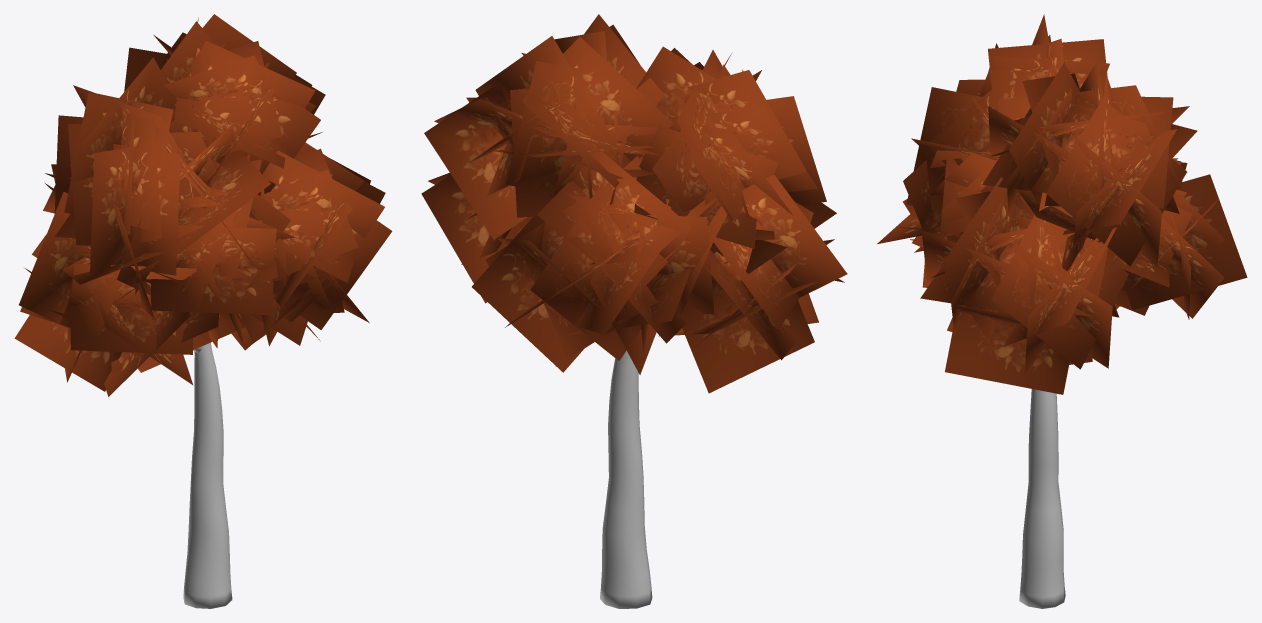
Rendered from Tree_S_03.fbx.
3 views of the same model, side by side, from view 1: azimuth 30°, elevation 25°; view 2: azimuth 150°, elevation 25°; view 3: azimuth 270°, elevation 25° (orthographic). The views are drawn at different scales.
Visible parts, largest first — view 1: Tree_S3_Leaves2, Tree_S3_Leaves1, Tree_S3_Leaves6, Tree_S3_Leaves4, Tree_S3_Leaves3, Tree_S_03; view 2: Tree_S3_Leaves5, Tree_S3_Leaves6, Tree_S3_Leaves2, Tree_S3_Leaves4, Tree_S_03, Tree_S3_Leaves1; view 3: Tree_S3_Leaves1, Tree_S3_Leaves6, Tree_S3_Leaves2, Tree_S3_Leaves5, Tree_S_03, Tree_S3_Leaves3.
Boxes of the visible parts, <box> form: Tree_S3_Leaves2: <box>54,57,270,396</box>; Tree_S3_Leaves1: <box>231,142,392,350</box>; Tree_S3_Leaves6: <box>124,14,325,195</box>; Tree_S3_Leaves4: <box>14,192,196,391</box>; Tree_S3_Leaves3: <box>116,159,295,348</box>; Tree_S_03: <box>183,342,232,608</box>; Tree_S3_Leaves5: <box>472,145,717,374</box>; Tree_S3_Leaves6: <box>424,14,673,239</box>; Tree_S3_Leaves2: <box>634,46,836,331</box>; Tree_S3_Leaves4: <box>658,174,847,393</box>; Tree_S_03: <box>600,350,652,608</box>; Tree_S3_Leaves1: <box>421,172,528,303</box>; Tree_S3_Leaves1: <box>920,177,1128,394</box>; Tree_S3_Leaves6: <box>982,61,1197,271</box>; Tree_S3_Leaves2: <box>906,14,1109,240</box>; Tree_S3_Leaves5: <box>1105,158,1247,319</box>; Tree_S_03: <box>1019,389,1065,608</box>; Tree_S3_Leaves3: <box>877,145,1023,287</box>.
Size of the model in its own units: 569 by 798 by 492.
